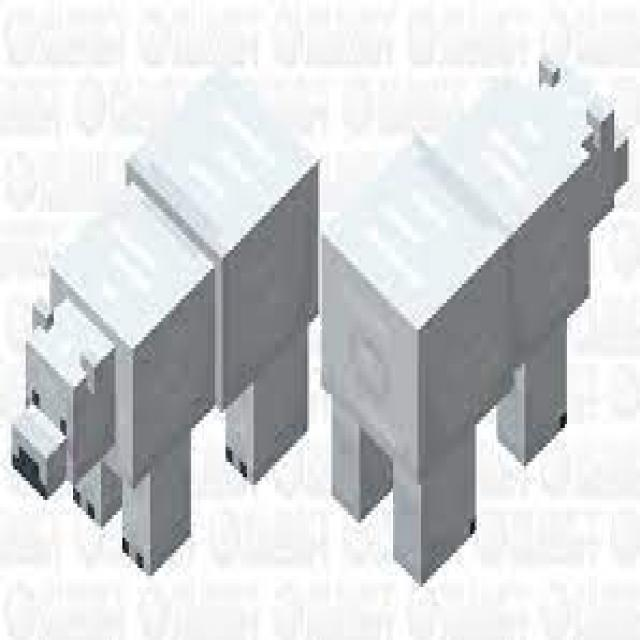Polar Bear: (319, 57, 630, 587), (10, 57, 323, 583)
